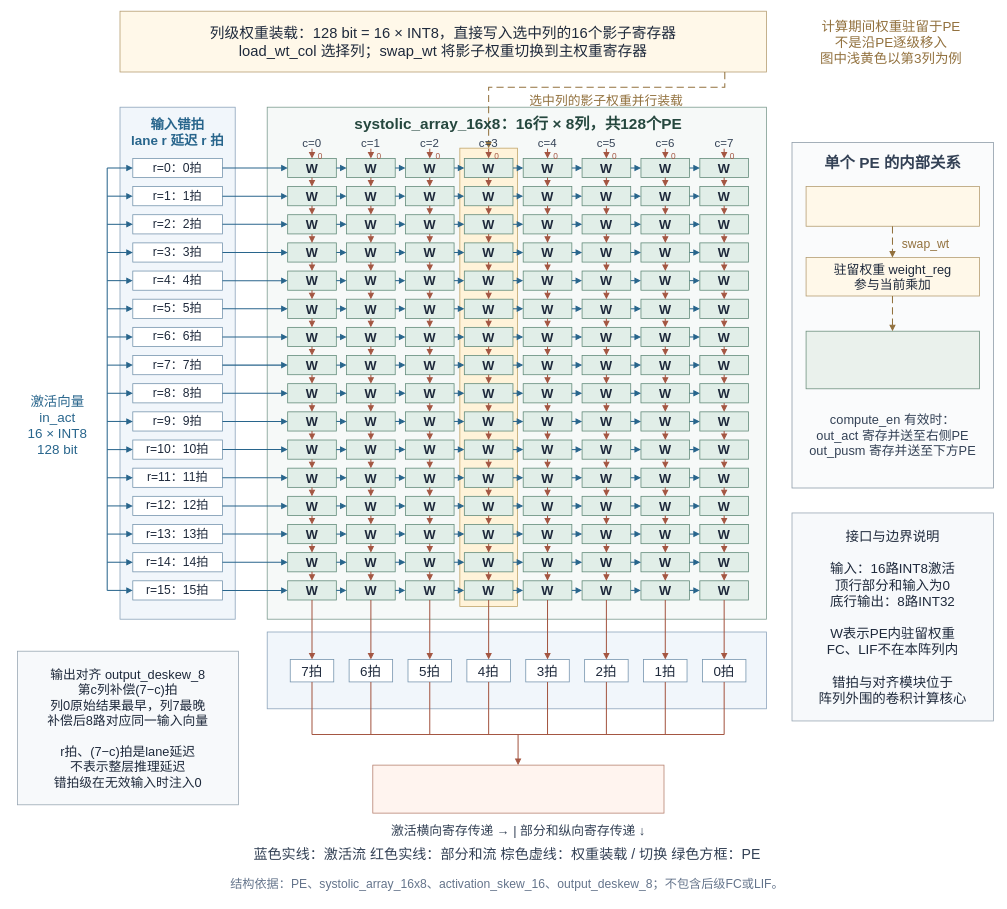
Image size: 1007x909. Some labels were removed from this diagram. The shapes that lost their labels are listed below. From the top down, each one's centre as x and y in pixels, then its label:
the point at 892,206: 影子权重 shadow_weight_reg load_shadow_wt 时写入 INT8
the point at 892,359: INT8 × INT8 + INT32 in_pusm + in_act × W 乘加结果写入 out_pusm
the point at 518,788: 对齐输出 out_psum / out_valid 8 × INT32 = 256 bit
